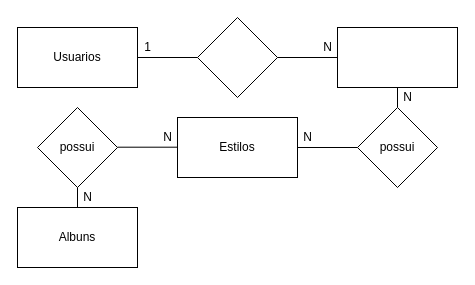
The diagram is 475 pixels wide and 285 high, and some of its shapes have lost their labels. The shapes that lost their labels are listed below. From the top down, each one's centre as x and y in pixels, then its label:
[237,57]: ouvir
[397,57]: Artistas
